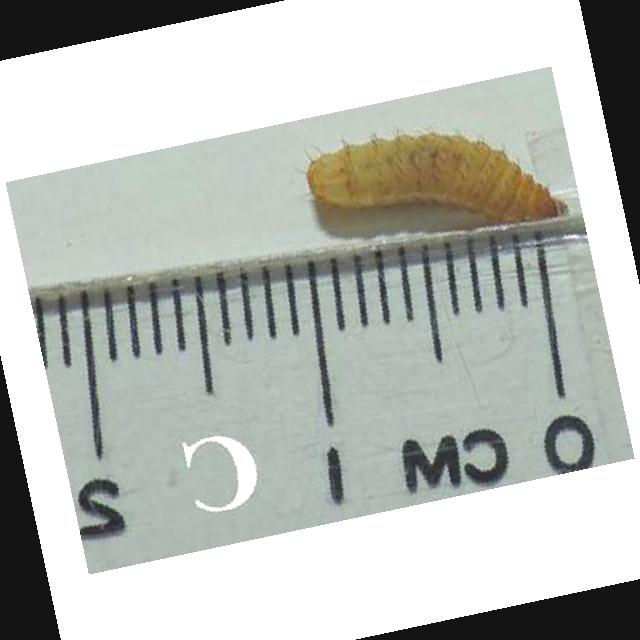Maggot: (303, 131, 567, 226)
